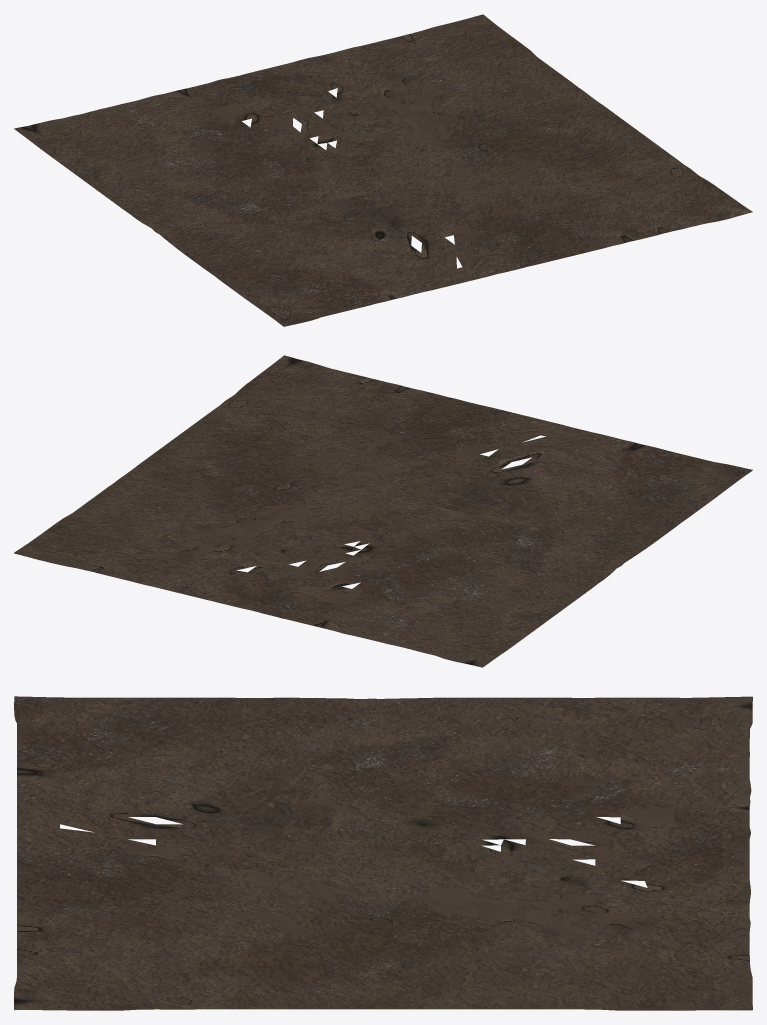
Rendered from mud.glb.
The picture shows the model from 3 angles, top to bottom: view 1: azimuth 30°, elevation 25°; view 2: azimuth 150°, elevation 25°; view 3: azimuth 270°, elevation 25°; orthographic projection. The views are drawn at different scales.
Bounding box in the file's own units: 0.9556 × 0.00244 × 0.9536.
Materials: 1 (1 with a texture image).
